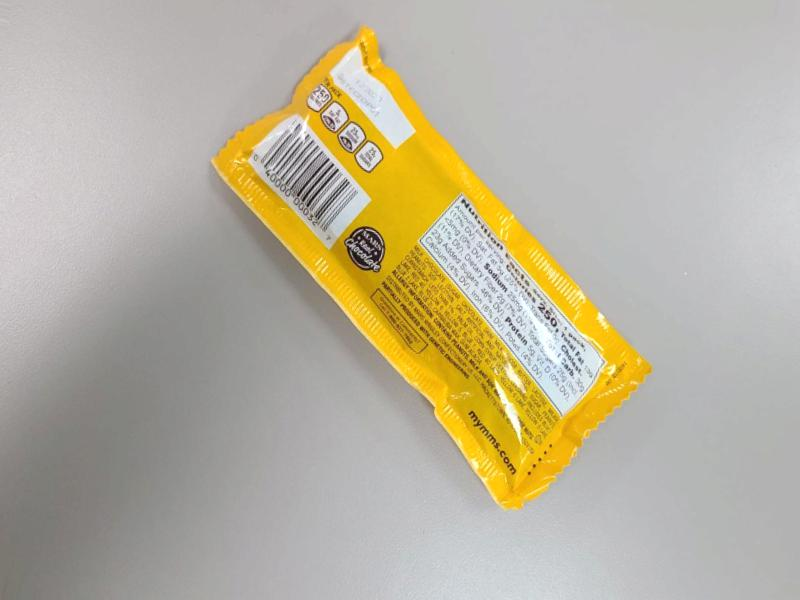m&m: (280, 5, 655, 473)
